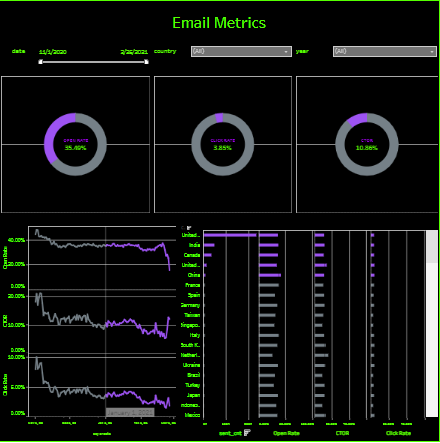

The dashboard page shown, as its layout file describes it:
{"tool":"tableau","page":{"name":"Email Metrics","canvas":[900,900],"ordinal":0},"visuals":[{"type":"title","box":[9,9,882,87]},{"type":"filter","title":"Open Rate","param":"[federated.0s266d21v0y8jl11czyag1tqauf3].[none:date:qk]","box":[9,96,306.9,44.3]},{"type":"filter","title":"Open Rate","param":"[federated.0s266d21v0y8jl11czyag1tqauf3].[none:country:nk]","box":[315.9,96,283.7,44.3]},{"type":"filter","title":"Open Rate","param":"[federated.0s266d21v0y8jl11czyag1tqauf3].[none:Calculation_647955406795157511:ok","box":[599.6,96,291.4,44.3]},{"type":"worksheet","title":"Open Rate","mark":"Pie","rows":["Calculation_647955406787653636","Calculation_647955406787653636"],"box":[9,140.3,306.9,297.9]},{"type":"worksheet","title":"Click Rate ","mark":"Pie","rows":["Calculation_647955406787653636","Calculation_647955406787653636"],"box":[315.9,140.3,283.7,297.9]},{"type":"worksheet","title":"CTOR","mark":"Pie","rows":["Calculation_647955406787653636","Calculation_647955406787653636"],"box":[599.6,140.3,291.4,297.9]},{"type":"worksheet","title":"Date","mark":"Automatic","rows":["Calculation_647955406784954368","Click Rate  (copy)_647955406785990658","Open Rate (copy)_647955406785617921"],"cols":["date"],"box":[9,438.2,360,452.8]},{"type":"worksheet","title":"Country","mark":"Automatic","rows":["country"],"cols":["sent_cnt","Calculation_647955406784954368","Click Rate  (copy)_647955406785990658","Open Rate (copy)_647955406785617921"],"box":[369,438.2,522,452.8]}]}

Visuals, with their boxes in screenshot pixels (x1, y1, x2, y2), scaled from the page's 900x900 canvas onto the 440x443 screenshot:
title: <bbox>4, 4, 436, 47</bbox>
"Open Rate" filter: <bbox>4, 47, 154, 69</bbox>
"Open Rate" filter: <bbox>154, 47, 293, 69</bbox>
"Open Rate" filter: <bbox>293, 47, 436, 69</bbox>
"Open Rate" worksheet (Pie marks): <bbox>4, 69, 154, 216</bbox>
"Click Rate " worksheet (Pie marks): <bbox>154, 69, 293, 216</bbox>
"CTOR" worksheet (Pie marks): <bbox>293, 69, 436, 216</bbox>
"Date" worksheet: <bbox>4, 216, 180, 439</bbox>
"Country" worksheet: <bbox>180, 216, 436, 439</bbox>
